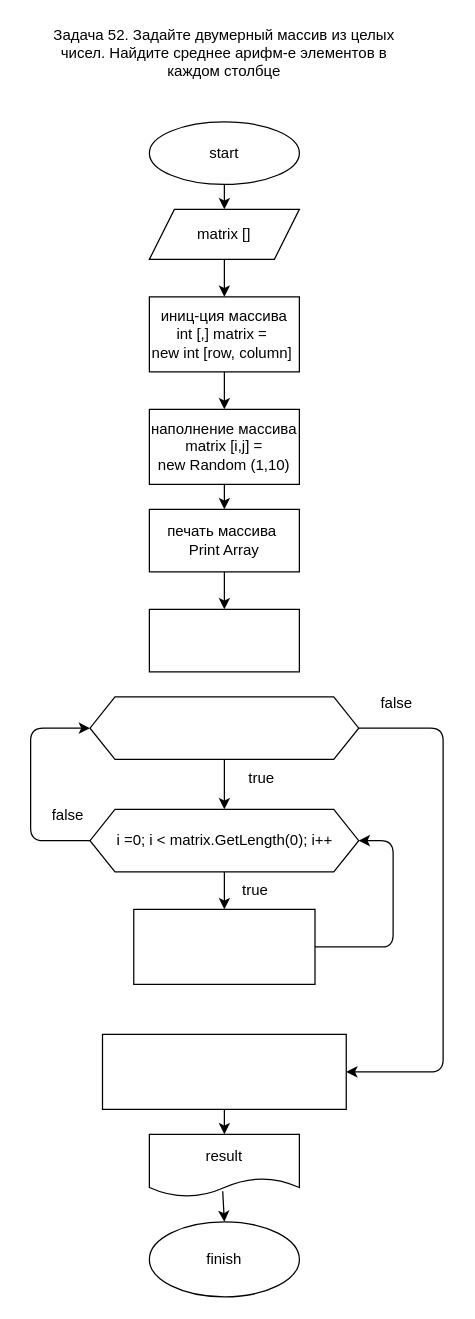
The diagram is 475 pixels wide and 1319 high, and some of its shapes have lost their labels. Here are the shapes that lost their labels. From the top down, the box of each, then its label:
(148, 608, 299, 672): sum = 0 result = 0
(89, 696, 359, 759): j =0; j < matrix.GetLength(1); j++
(132, 908, 315, 984): sum = sum + matrix [i,j]
(101, 1033, 346, 1109): result = sum/matrix.GetLength(0)
